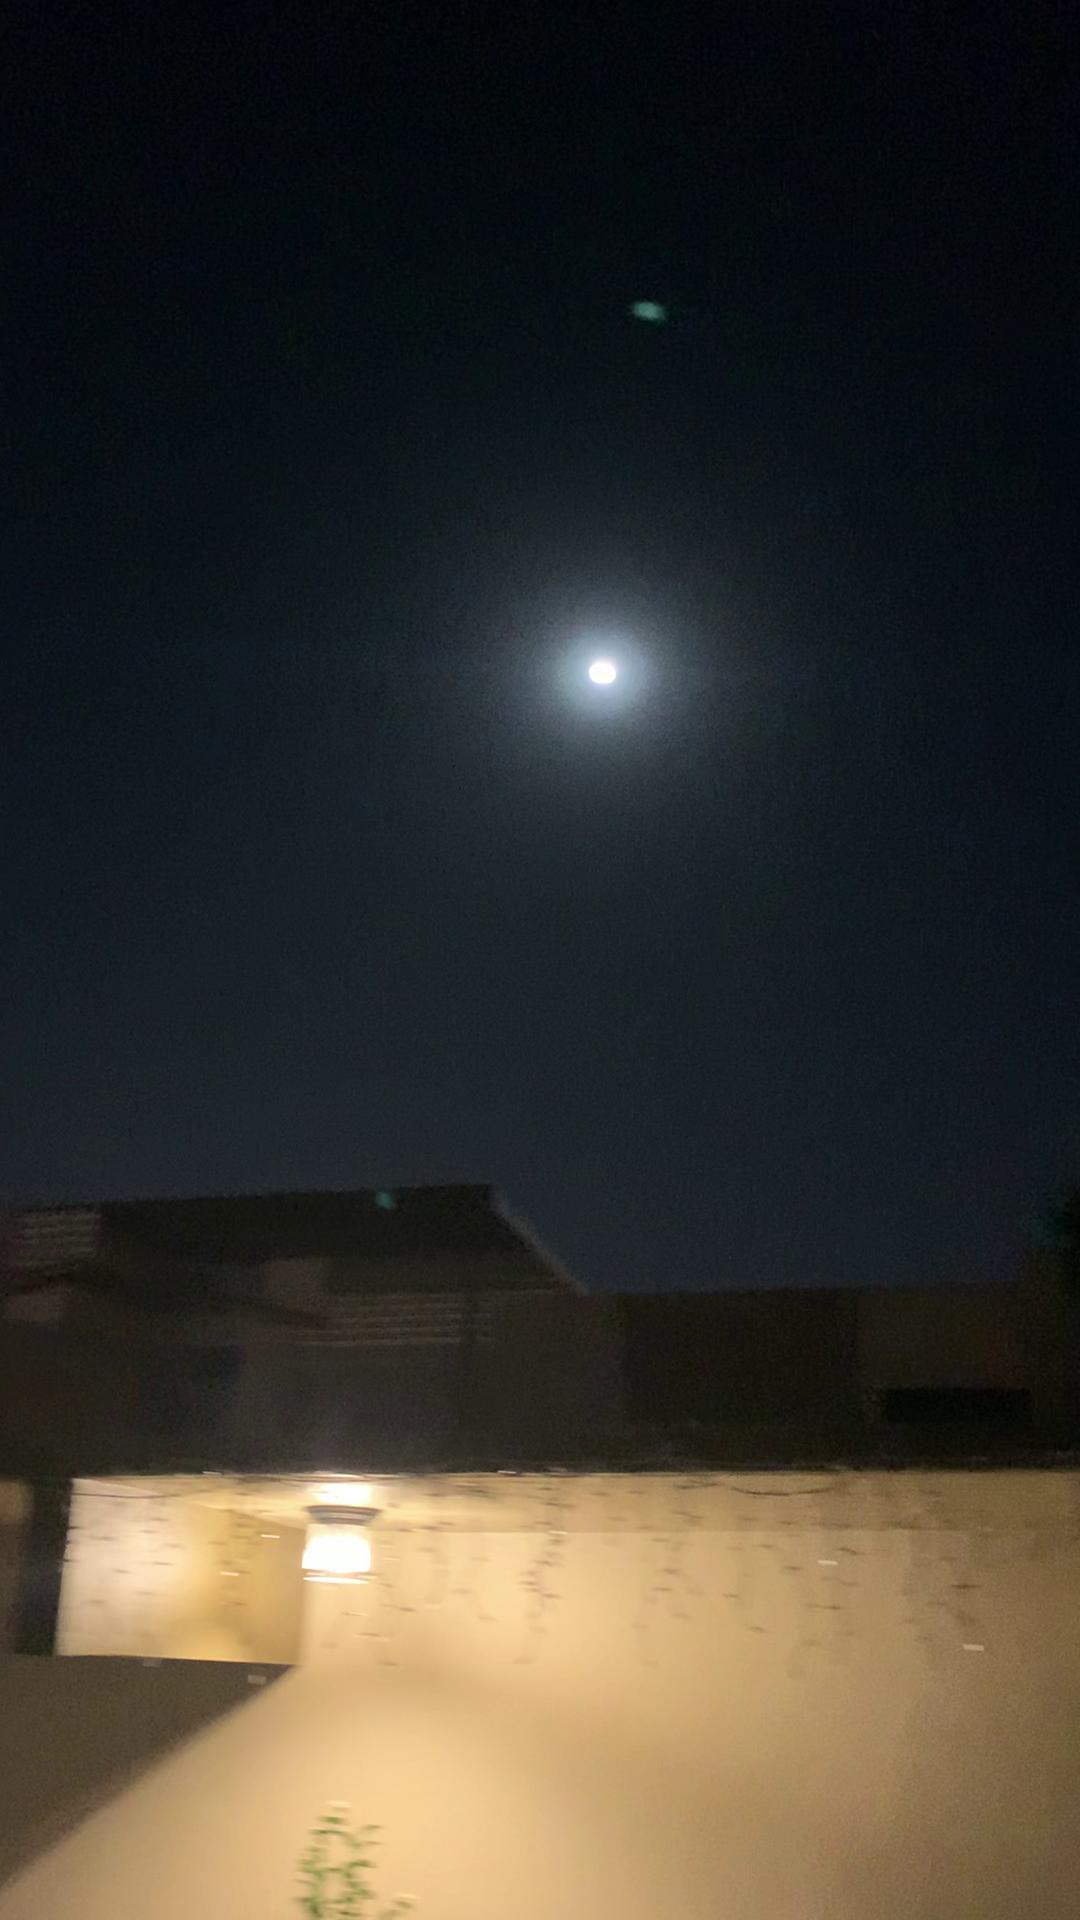moon: (579, 630, 666, 709)
